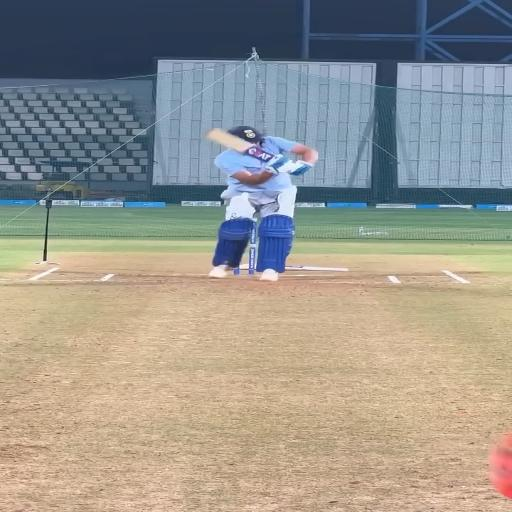Cricket bat: (206, 128, 276, 163)
